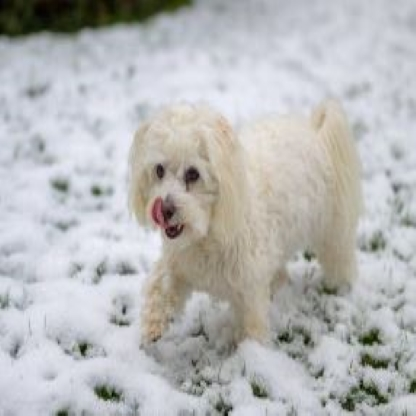maltese: (128, 95, 355, 354)
